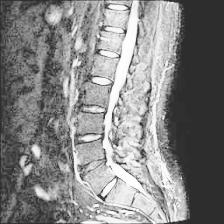disc: (86, 72, 115, 90), (100, 22, 131, 38), (95, 46, 123, 62), (104, 1, 132, 16)
hdisc: (78, 157, 114, 178), (74, 130, 106, 146), (82, 102, 108, 118)
